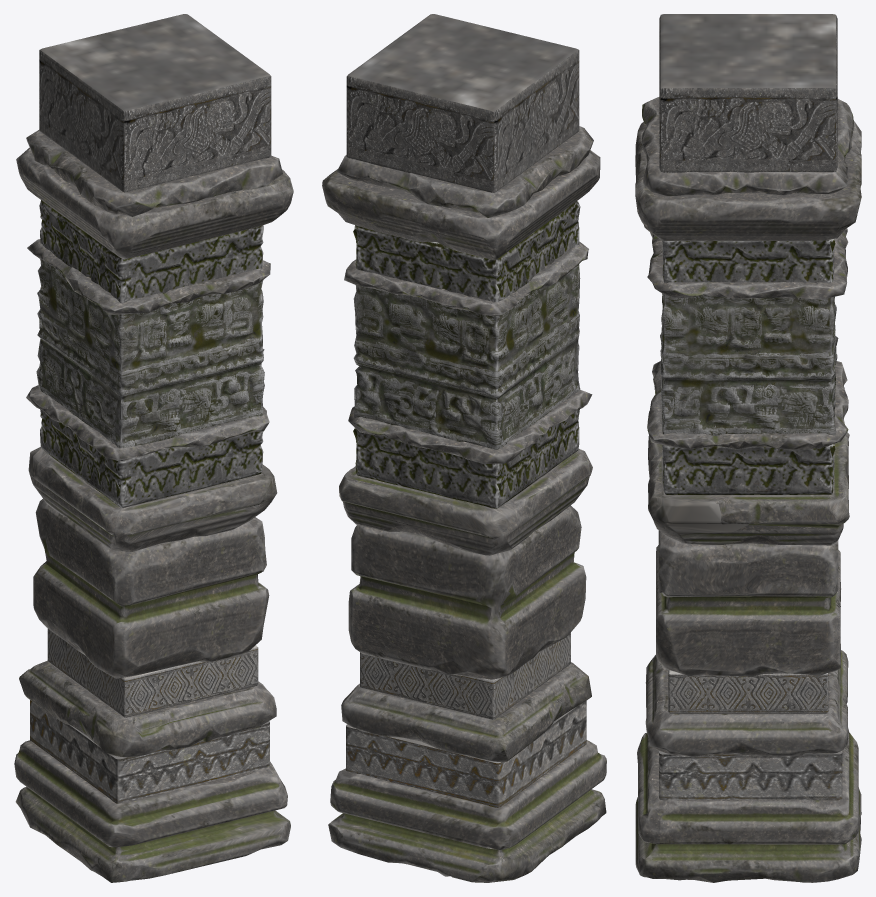
File: SM_Pillar_B.fbx
3 views of the same model, side by side, from view 1: azimuth 30°, elevation 25°; view 2: azimuth 150°, elevation 25°; view 3: azimuth 270°, elevation 25° (orthographic). The views are drawn at different scales.
Visible parts, largest first — view 1: SM_Pillar_B_LOD0; view 2: SM_Pillar_B_LOD0; view 3: SM_Pillar_B_LOD0.
Part boxes in pixels (left/top/right/bottom): SM_Pillar_B_LOD0: left=14, top=14, right=293, bottom=882; SM_Pillar_B_LOD0: left=322, top=14, right=606, bottom=882; SM_Pillar_B_LOD0: left=635, top=14, right=861, bottom=882.
Bounding box in the file's own units: 193 × 189 × 728.
